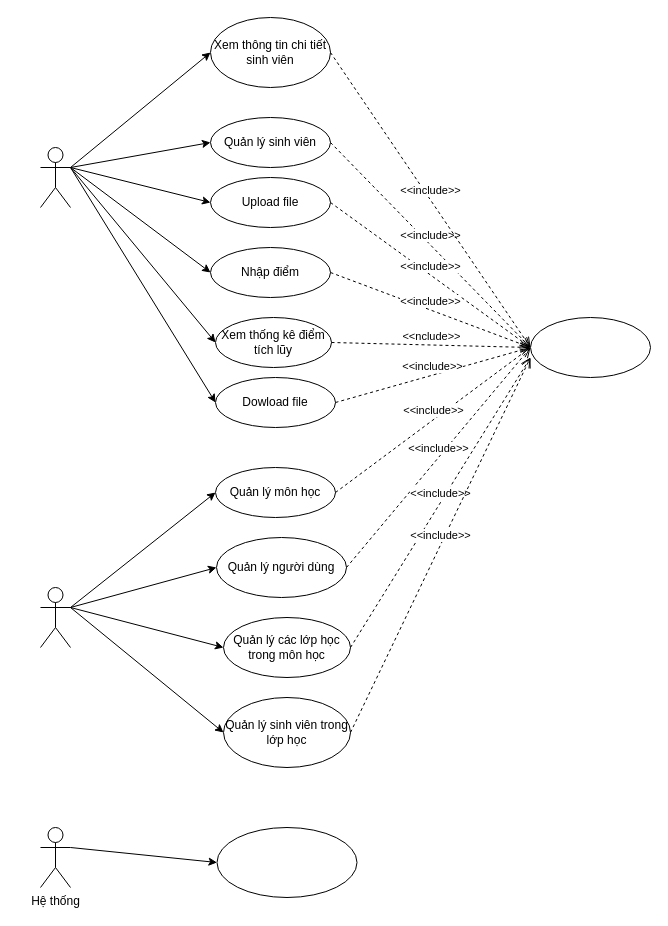
This 668x926 diagram has some shape labels left out. The box of each missing label's shape, as (x1, y1, x2, y2) in pixels:
Giáo viên: (40, 146, 70, 208)
Người quản trị: (40, 586, 70, 648)
Đăng nhập: (530, 316, 650, 378)
Đọc ghi dữ liệu trong file vào CSDL: (216, 826, 357, 898)
